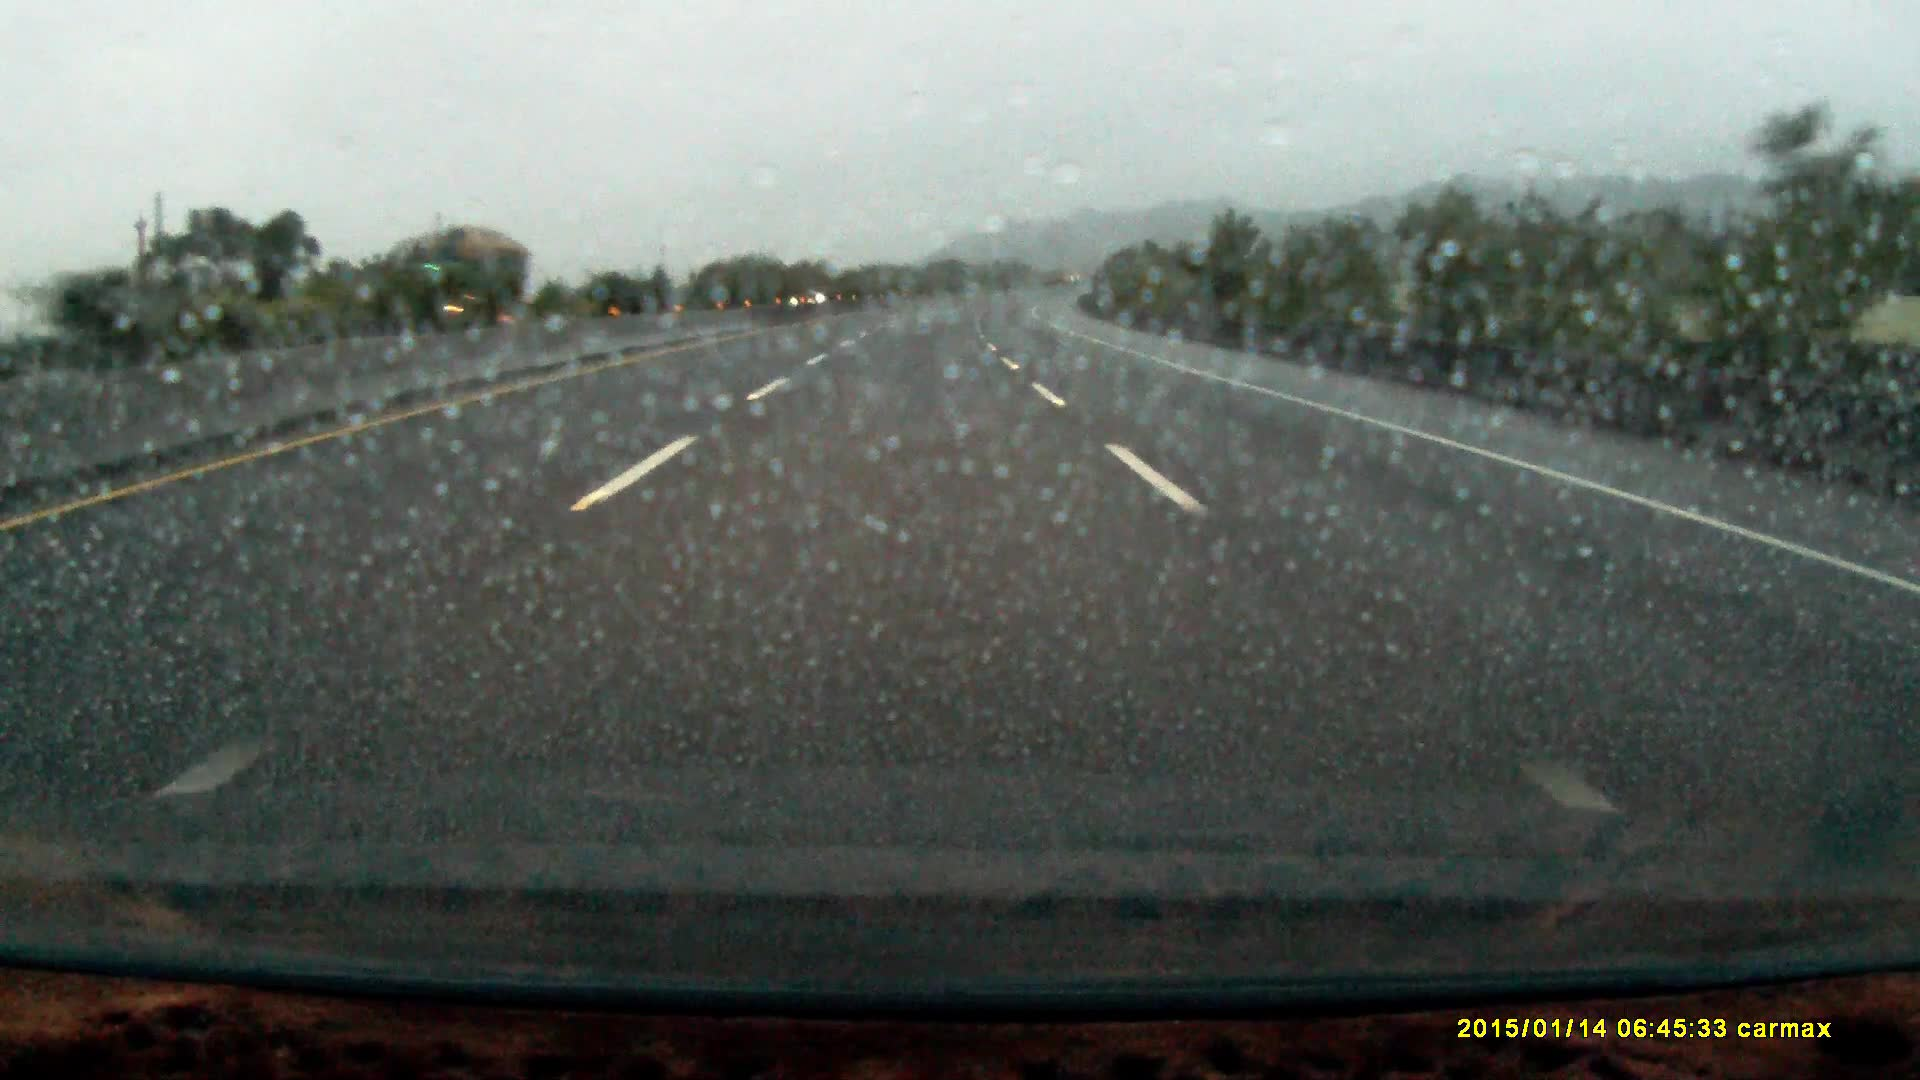vehicle: (407, 224, 533, 326)
